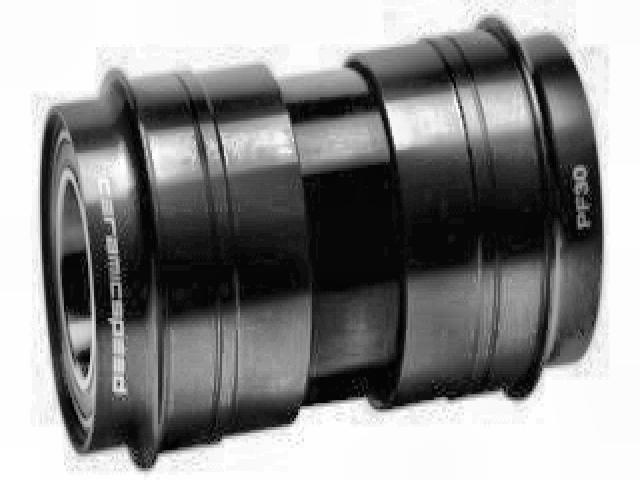bottom_bracket: (38, 11, 606, 472)
